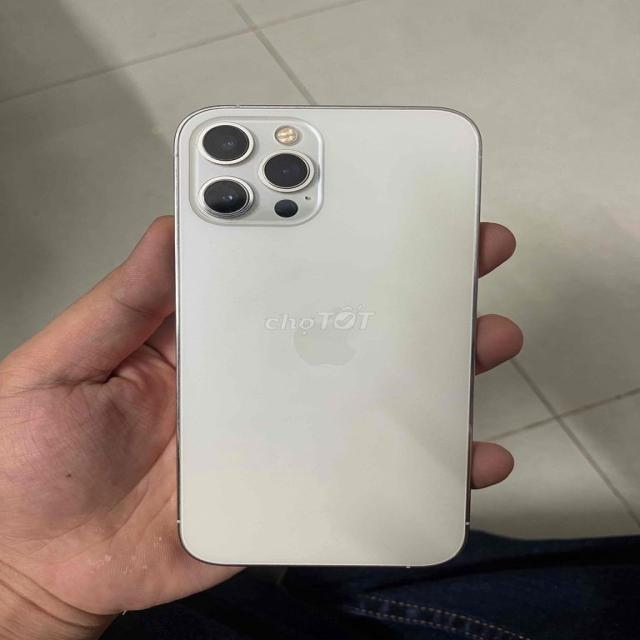gen_12_13: (168, 99, 480, 570)
